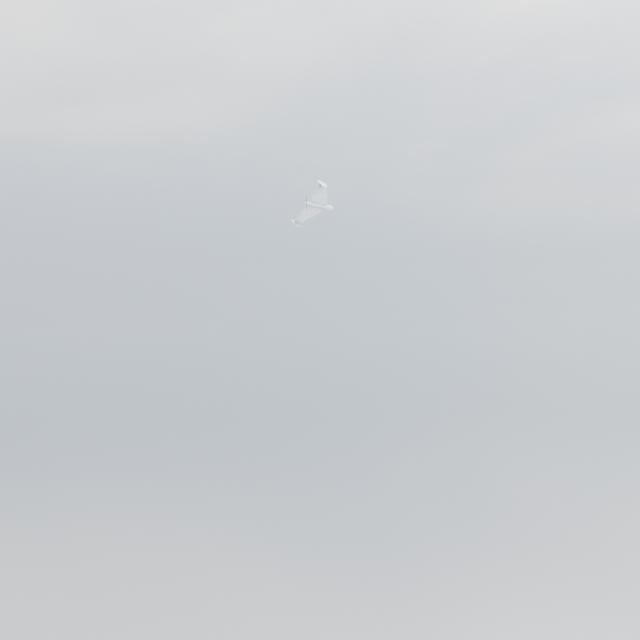Airaplan: (290, 180, 333, 226)
